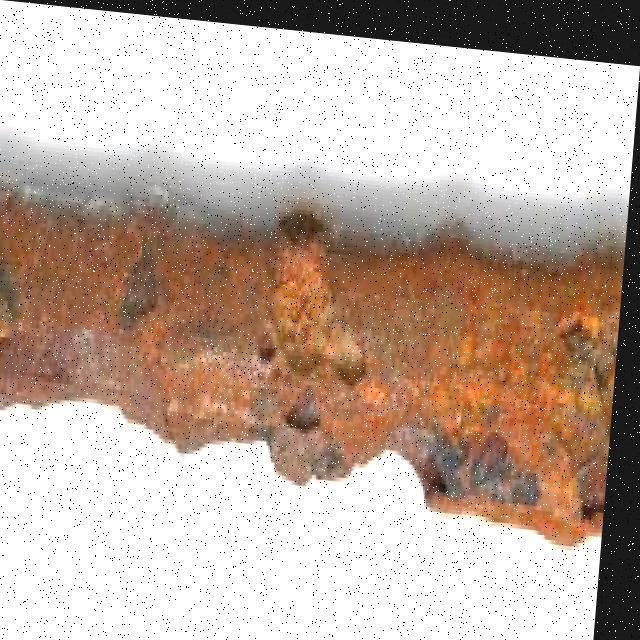corrosion: (0, 173, 629, 543)
